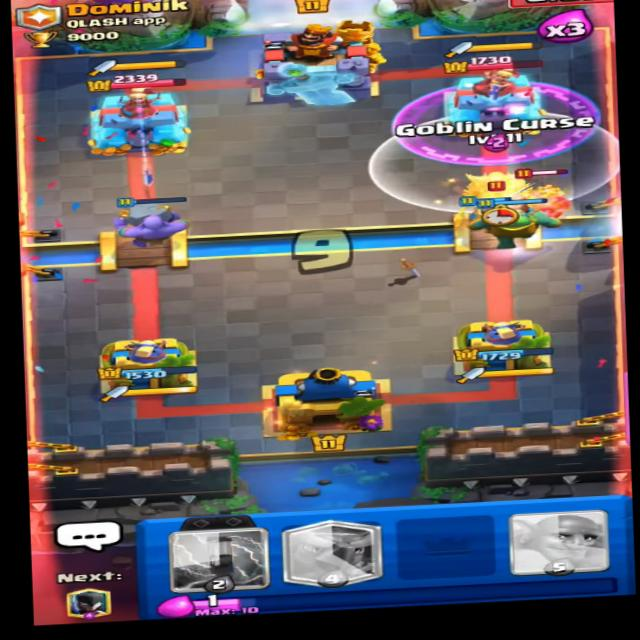pekka: (452, 165, 530, 210)
royal-ghost: (501, 164, 575, 227)
